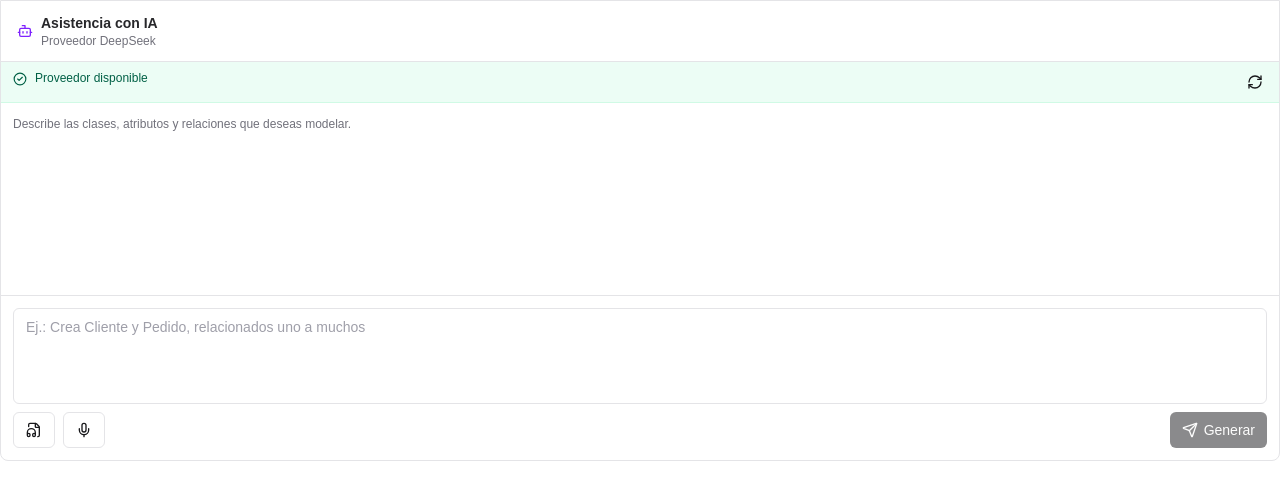
AiAssistantPanel micrófono › graba y pega la transcripción cuando el prompt está vacío
Expected: the text "Proveedor disponible" is shown, [35,71,148,85]
Click the button named "Grabar del micrófono". click: (84, 430)
box: [63,412,105,448]
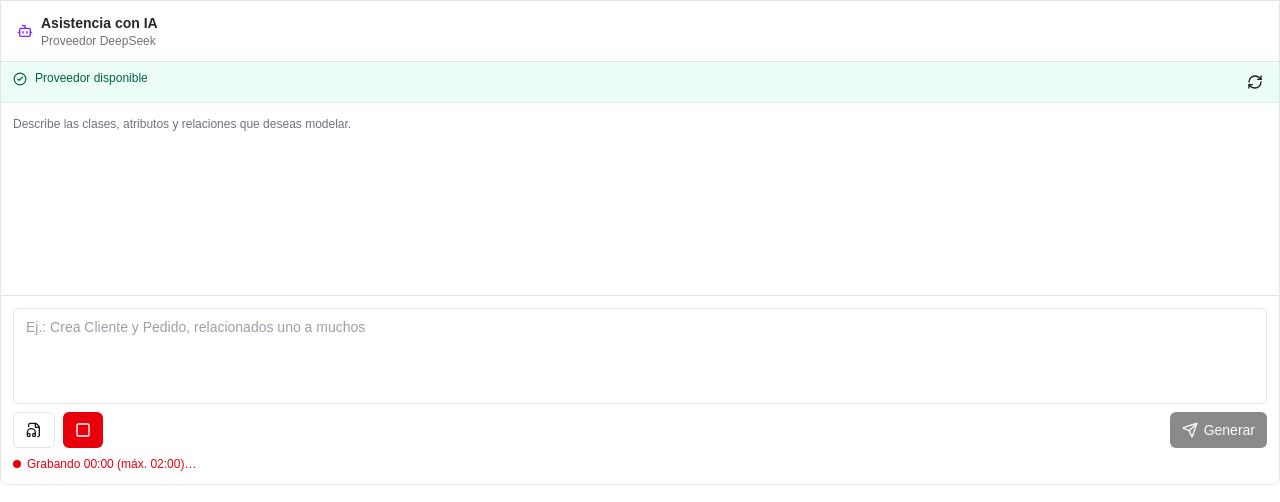
Expected: the button named "Detener grabación" is shown
Click the button named "Detener grabación". click: (83, 430)
box: [63,412,103,448]
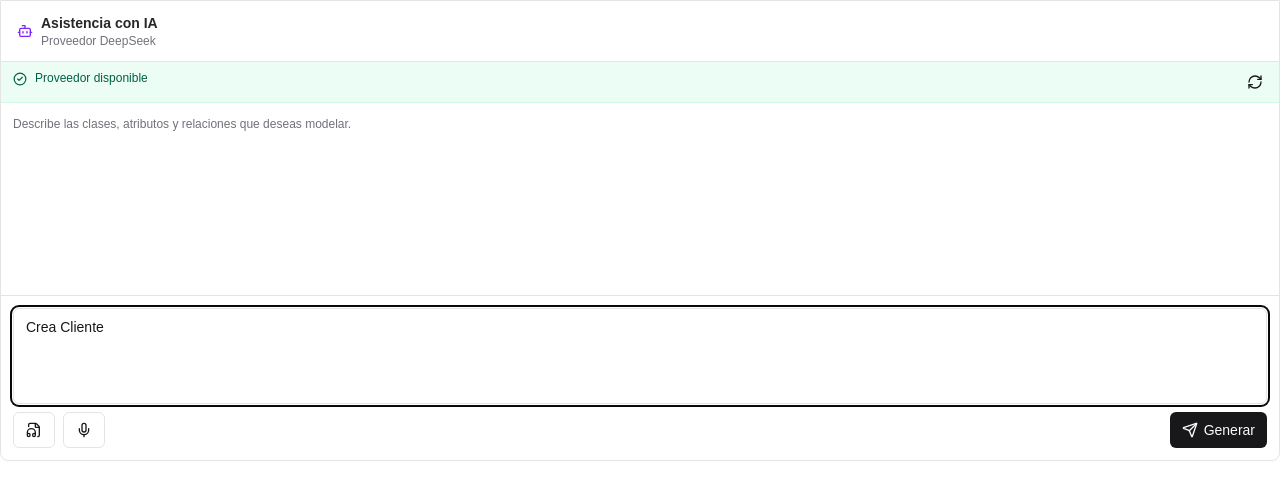
Expected: the text box named "Prompt para asistencia con IA" holds "Crea Cliente", [13,308,1267,404]
